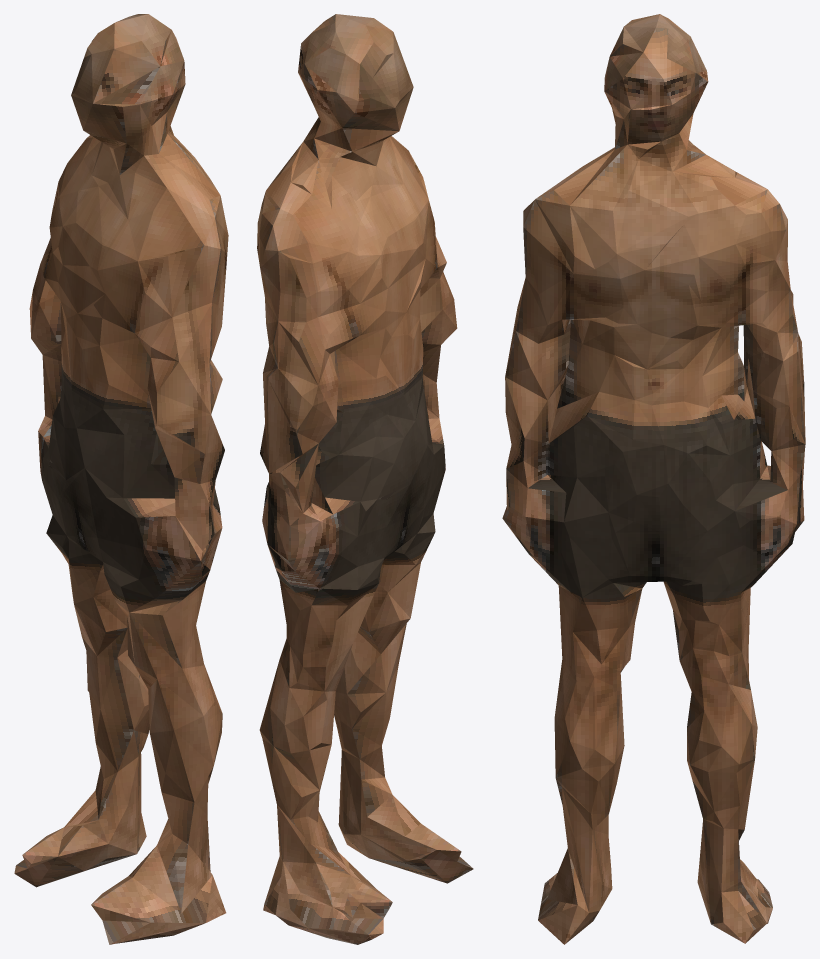
Rendered from personaje.base.cuerpo_comun_3.glb.
3 views of the same model, side by side, from view 1: azimuth 30°, elevation 25°; view 2: azimuth 150°, elevation 25°; view 3: azimuth 270°, elevation 25° (orthographic). The views are drawn at different scales.
Visible parts, largest first — view 1: personaje.base.cuerpo_comun_3; view 2: personaje.base.cuerpo_comun_3; view 3: personaje.base.cuerpo_comun_3.
Part boxes in pixels (left/top/right/bottom): personaje.base.cuerpo_comun_3: left=14, top=14, right=228, bottom=944; personaje.base.cuerpo_comun_3: left=257, top=14, right=473, bottom=944; personaje.base.cuerpo_comun_3: left=502, top=14, right=805, bottom=944.
Bounding box in the file's own units: 0.2879 × 1.7 × 0.5138.
1 material, 1 textured.
